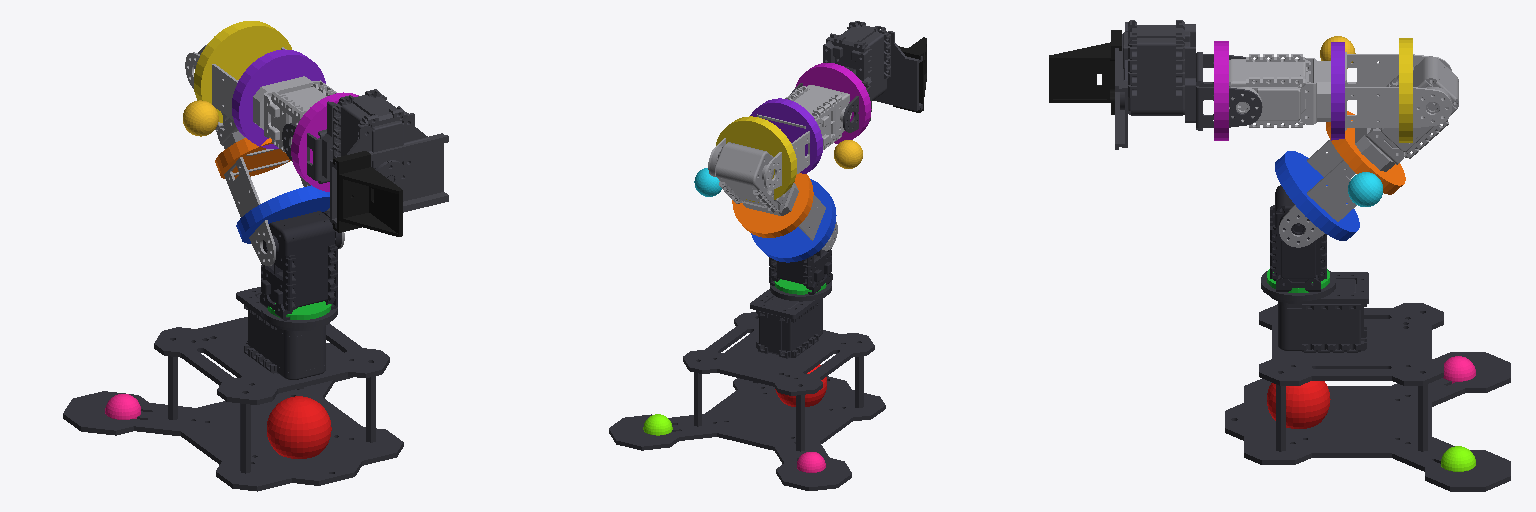
robot.urdf — phantomx_pincher_cad:
<?xml version="1.0" ?>
<!-- 由 scripts/build_cad_urdf.py 从 PhantomX Pincher Mark II STEP/GLB 生成。
     运动学来自 CAD 装配：link frame = 零件局部坐标系，joint origin = 父→子相对变换。
     base_link 包含底座；base_footprint 把 CAD 的 Y-up 转成 Z-up。
-->
<robot name="phantomx_pincher_cad">
  <link name="base_footprint"/>
  <joint name="arm_base_joint" type="fixed">
    <origin xyz="0 0 0" rpy="0 -0 -1.57079633"/>
    <parent link="base_footprint"/>
    <child link="base_link"/>
  </joint>

  <link name="base_link">
    <inertial>
      <mass value="0.3"/>
      <origin xyz="0 0 0"/>
      <inertia ixx="0.0001" ixy="0" ixz="0" iyy="0.0001" iyz="0" izz="0.0001"/>
    </inertial>
    <visual>
      <origin xyz="0 0 0" rpy="0 0 0"/>
      <geometry><mesh filename="parts/PincherBase.stl" scale="1.0 1.0 1.0"/></geometry>
      <material name="grey"><color rgba="0.25 0.25 0.28 1"/></material>
    </visual>
    <collision>
      <origin xyz="0 0 0" rpy="0 0 0"/>
      <geometry><mesh filename="parts/PincherBase.stl" scale="1.0 1.0 1.0"/></geometry>
    </collision>
    <visual>
      <origin xyz="0 0 0" rpy="0 0 0"/>
      <geometry><mesh filename="parts/PincherBase_1.stl" scale="1.0 1.0 1.0"/></geometry>
      <material name="grey"><color rgba="0.25 0.25 0.28 1"/></material>
    </visual>
    <collision>
      <origin xyz="0 0 0" rpy="0 0 0"/>
      <geometry><mesh filename="parts/PincherBase_1.stl" scale="1.0 1.0 1.0"/></geometry>
    </collision>
  </link>

  <joint name="arm_shoulder_pan_joint" type="revolute">
    <origin xyz="0.00007574 0.00007574 0.09437501" rpy="0 0 0"/>
    <axis xyz="0 0 1"/>
    <limit effort="6" lower="-1.74" upper="1.74" velocity="1.571"/>
    <dynamics friction="0.13"/>
    <parent link="base_link"/>
    <child link="arm_shoulder_pan_link"/>
  </joint>
  <link name="arm_shoulder_pan_link">
    <inertial>
      <mass value="0.08"/>
      <origin xyz="0 0 0"/>
      <inertia ixx="0.0001" ixy="0" ixz="0" iyy="0.0001" iyz="0" izz="0.0001"/>
    </inertial>
    <visual>
      <origin xyz="0 0 0" rpy="0 0 0"/>
      <geometry><mesh filename="parts/Component1.stl" scale="1.0 1.0 1.0"/></geometry>
      <material name="grey"><color rgba="0.22 0.22 0.25 1"/></material>
    </visual>
    <collision>
      <origin xyz="0 0 0" rpy="0 0 0"/>
      <geometry><mesh filename="parts/Component1.stl" scale="1.0 1.0 1.0"/></geometry>
    </collision>
  </link>

  <joint name="arm_bicep_joint" type="revolute">
    <origin xyz="-0.00000023 0 0.04149977" rpy="0 -0.78539816 0"/>
    <axis xyz="0 1 -0"/>
    <limit effort="6" lower="-1.98" upper="1.88" velocity="1.571"/>
    <dynamics friction="0.13"/>
    <parent link="arm_shoulder_pan_link"/>
    <child link="arm_bicep_link"/>
  </joint>
  <link name="arm_bicep_link">
    <inertial>
      <mass value="0.1"/>
      <origin xyz="0 0 0"/>
      <inertia ixx="0.0001" ixy="0" ixz="0" iyy="0.0001" iyz="0" izz="0.0001"/>
    </inertial>
    <visual>
      <origin xyz="0 0 0" rpy="0 0 0"/>
      <geometry><mesh filename="parts/LowerArm_v2.stl" scale="1.0 1.0 1.0"/></geometry>
      <material name="grey"><color rgba="0.6 0.6 0.62 1"/></material>
    </visual>
    <collision>
      <origin xyz="0 0 0" rpy="0 0 0"/>
      <geometry><mesh filename="parts/LowerArm_v2.stl" scale="1.0 1.0 1.0"/></geometry>
    </collision>
  </link>

  <joint name="arm_forearm_joint" type="revolute">
    <origin xyz="0.00000023 0 0.10700023" rpy="-3.14159265 0.78539816 -3.14159265"/>
    <axis xyz="-0 1 0"/>
    <limit effort="6" lower="-1.58" upper="0.59" velocity="1.571"/>
    <dynamics friction="0.13"/>
    <parent link="arm_bicep_link"/>
    <child link="arm_forearm_link"/>
  </joint>
  <link name="arm_forearm_link">
    <inertial>
      <mass value="0.08"/>
      <origin xyz="0 0 0"/>
      <inertia ixx="0.0001" ixy="0" ixz="0" iyy="0.0001" iyz="0" izz="0.0001"/>
    </inertial>
    <visual>
      <origin xyz="0 0 0" rpy="0 0 0"/>
      <geometry><mesh filename="parts/UpperArm_v2.stl" scale="1.0 1.0 1.0"/></geometry>
      <material name="grey"><color rgba="0.68 0.68 0.7 1"/></material>
    </visual>
    <collision>
      <origin xyz="0 0 0" rpy="0 0 0"/>
      <geometry><mesh filename="parts/UpperArm_v2.stl" scale="1.0 1.0 1.0"/></geometry>
    </collision>
  </link>

  <joint name="arm_wrist_flex_joint" type="revolute">
    <origin xyz="-0.00025427 -0 0.107" rpy="-0 0 0"/>
    <axis xyz="-0 1 0"/>
    <limit effort="6" lower="-1.79" upper="1.67" velocity="1.571"/>
    <dynamics friction="0.13"/>
    <parent link="arm_forearm_link"/>
    <child link="arm_wrist_flex_link"/>
  </joint>
  <link name="arm_wrist_flex_link">
    <inertial>
      <mass value="0.06"/>
      <origin xyz="0 0 0"/>
      <inertia ixx="0.0001" ixy="0" ixz="0" iyy="0.0001" iyz="0" izz="0.0001"/>
    </inertial>
    <visual>
      <origin xyz="0 0 0" rpy="0 0 0"/>
      <geometry><mesh filename="parts/GripperBody_v4.stl" scale="1.0 1.0 1.0"/></geometry>
      <material name="grey"><color rgba="0.3 0.3 0.33 1"/></material>
    </visual>
    <collision>
      <origin xyz="0 0 0" rpy="0 0 0"/>
      <geometry><mesh filename="parts/GripperBody_v4.stl" scale="1.0 1.0 1.0"/></geometry>
    </collision>
  </link>

  <joint name="gripper_joint" type="prismatic">
    <origin xyz="0.00036977 0.02834429 0.07158491" rpy="-0 0 3.14159265"/>
    <axis xyz="0 -1 -0"/>
    <limit effort="30" lower="0.002" upper="0.032" velocity="0.5"/>
    <parent link="arm_wrist_flex_link"/>
    <child link="gripper_active_link"/>
  </joint>
  <link name="gripper_active_link">
    <inertial>
      <mass value="0.01"/>
      <origin xyz="0 0 0"/>
      <inertia ixx="0.0001" ixy="0" ixz="0" iyy="0.0001" iyz="0" izz="0.0001"/>
    </inertial>
    <visual>
      <origin xyz="0 0 0" rpy="0 0 0"/>
      <geometry><mesh filename="parts/LeftFinger_v2.stl" scale="1.0 1.0 1.0"/></geometry>
      <material name="grey"><color rgba="0.15 0.15 0.15 1"/></material>
    </visual>
    <collision>
      <origin xyz="0 0 0" rpy="0 0 0"/>
      <geometry><mesh filename="parts/LeftFinger_v2.stl" scale="1.0 1.0 1.0"/></geometry>
    </collision>
  </link>

  <joint name="gripper2_joint" type="fixed">
    <origin xyz="0.00036977 -0.02849576 0.07158491" rpy="0 -0 0"/>
    <parent link="arm_wrist_flex_link"/>
    <child link="gripper_active2_link"/>
  </joint>
  <link name="gripper_active2_link">
    <inertial>
      <mass value="0.01"/>
      <origin xyz="0 0 0"/>
      <inertia ixx="0.0001" ixy="0" ixz="0" iyy="0.0001" iyz="0" izz="0.0001"/>
    </inertial>
    <visual>
      <origin xyz="0 0 0" rpy="0 0 0"/>
      <geometry><mesh filename="parts/LeftFinger_v2_1.stl" scale="1.0 1.0 1.0"/></geometry>
      <material name="grey"><color rgba="0.15 0.15 0.15 1"/></material>
    </visual>
    <collision>
      <origin xyz="0 0 0" rpy="0 0 0"/>
      <geometry><mesh filename="parts/LeftFinger_v2_1.stl" scale="1.0 1.0 1.0"/></geometry>
    </collision>
  </link>

  <!-- keypoint marker: kp_base -->
  <link name="kp_base">
    <visual>
      <origin xyz="0 0 0" rpy="0.0 0.0 0.0"/>
      <geometry><sphere radius="0.018"/></geometry>
      <material name="kp_kp_base_color">
        <color rgba="0.90 0.15 0.15 1.00"/>
      </material>
    </visual>
  </link>
  <joint name="kp_base_joint" type="fixed">
    <origin xyz="0.0 0.0 0.02" rpy="0 0 0"/>
    <parent link="base_link"/>
    <child link="kp_base"/>
  </joint>


  <!-- keypoint marker: kp_shoulder_pan -->
  <link name="kp_shoulder_pan">
    <visual>
      <origin xyz="0 0 0" rpy="0.0 0.0 0.0"/>
      <geometry><cylinder radius="0.018" length="0.006"/></geometry>
      <material name="kp_kp_shoulder_pan_color">
        <color rgba="0.15 0.75 0.25 1.00"/>
      </material>
    </visual>
  </link>
  <joint name="kp_shoulder_pan_joint" type="fixed">
    <origin xyz="0.0 0.0 0.0" rpy="0 0 0"/>
    <parent link="arm_shoulder_pan_link"/>
    <child link="kp_shoulder_pan"/>
  </joint>


  <!-- keypoint marker: kp_shoulder_lift -->
  <link name="kp_shoulder_lift">
    <visual>
      <origin xyz="0 0 0" rpy="0.0 0.0 0.0"/>
      <geometry><cylinder radius="0.03" length="0.008"/></geometry>
      <material name="kp_kp_shoulder_lift_color">
        <color rgba="0.15 0.35 0.90 1.00"/>
      </material>
    </visual>
  </link>
  <joint name="kp_shoulder_lift_joint" type="fixed">
    <origin xyz="0.0 0.0 0.015" rpy="0 0 0"/>
    <parent link="arm_bicep_link"/>
    <child link="kp_shoulder_lift"/>
  </joint>


  <!-- keypoint marker: kp_upper_mid -->
  <link name="kp_upper_mid">
    <visual>
      <origin xyz="0 0 0" rpy="0.0 0.0 0.0"/>
      <geometry><cylinder radius="0.028" length="0.008"/></geometry>
      <material name="kp_kp_upper_mid_color">
        <color rgba="1.00 0.50 0.10 1.00"/>
      </material>
    </visual>
  </link>
  <joint name="kp_upper_mid_joint" type="fixed">
    <origin xyz="0.0 0.0 0.0535" rpy="0 0 0"/>
    <parent link="arm_bicep_link"/>
    <child link="kp_upper_mid"/>
  </joint>


  <!-- keypoint marker: kp_elbow -->
  <link name="kp_elbow">
    <visual>
      <origin xyz="0 0 0" rpy="0.0 0.0 0.0"/>
      <geometry><cylinder radius="0.03" length="0.008"/></geometry>
      <material name="kp_kp_elbow_color">
        <color rgba="0.90 0.80 0.15 1.00"/>
      </material>
    </visual>
  </link>
  <joint name="kp_elbow_joint" type="fixed">
    <origin xyz="0.0 0.0 0.015" rpy="0 0 0"/>
    <parent link="arm_forearm_link"/>
    <child link="kp_elbow"/>
  </joint>


  <!-- keypoint marker: kp_forearm_mid -->
  <link name="kp_forearm_mid">
    <visual>
      <origin xyz="0 0 0" rpy="0.0 0.0 0.0"/>
      <geometry><cylinder radius="0.028" length="0.008"/></geometry>
      <material name="kp_kp_forearm_mid_color">
        <color rgba="0.55 0.20 0.85 1.00"/>
      </material>
    </visual>
  </link>
  <joint name="kp_forearm_mid_joint" type="fixed">
    <origin xyz="0.0 0.0 0.0535" rpy="0 0 0"/>
    <parent link="arm_forearm_link"/>
    <child link="kp_forearm_mid"/>
  </joint>


  <!-- keypoint marker: kp_wrist -->
  <link name="kp_wrist">
    <visual>
      <origin xyz="0 0 0" rpy="0.0 0.0 0.0"/>
      <geometry><cylinder radius="0.028" length="0.008"/></geometry>
      <material name="kp_kp_wrist_color">
        <color rgba="0.80 0.15 0.80 1.00"/>
      </material>
    </visual>
  </link>
  <joint name="kp_wrist_joint" type="fixed">
    <origin xyz="0.0 0.0 0.012" rpy="0 0 0"/>
    <parent link="arm_wrist_flex_link"/>
    <child link="kp_wrist"/>
  </joint>


  <!-- keypoint marker: kp_base_left -->
  <link name="kp_base_left">
    <visual>
      <origin xyz="0 0 0" rpy="0.0 0.0 0.0"/>
      <geometry><sphere radius="0.01"/></geometry>
      <material name="kp_kp_base_left_color">
        <color rgba="0.55 1.00 0.10 1.00"/>
      </material>
    </visual>
  </link>
  <joint name="kp_base_left_joint" type="fixed">
    <origin xyz="-0.09 0.06 0.008" rpy="0 0 0"/>
    <parent link="base_link"/>
    <child link="kp_base_left"/>
  </joint>


  <!-- keypoint marker: kp_base_right -->
  <link name="kp_base_right">
    <visual>
      <origin xyz="0 0 0" rpy="0.0 0.0 0.0"/>
      <geometry><sphere radius="0.01"/></geometry>
      <material name="kp_kp_base_right_color">
        <color rgba="1.00 0.20 0.60 1.00"/>
      </material>
    </visual>
  </link>
  <joint name="kp_base_right_joint" type="fixed">
    <origin xyz="-0.09 -0.06 0.008" rpy="0 0 0"/>
    <parent link="base_link"/>
    <child link="kp_base_right"/>
  </joint>


  <!-- keypoint marker: kp_lug_left -->
  <link name="kp_lug_left">
    <visual>
      <origin xyz="0 0 0" rpy="0.0 0.0 0.0"/>
      <geometry><sphere radius="0.01"/></geometry>
      <material name="kp_kp_lug_left_color">
        <color rgba="0.20 0.85 0.95 1.00"/>
      </material>
    </visual>
  </link>
  <joint name="kp_lug_left_joint" type="fixed">
    <origin xyz="0.0 0.05 0.0535" rpy="0 0 0"/>
    <parent link="arm_bicep_link"/>
    <child link="kp_lug_left"/>
  </joint>


  <!-- keypoint marker: kp_lug_right -->
  <link name="kp_lug_right">
    <visual>
      <origin xyz="0 0 0" rpy="0.0 0.0 0.0"/>
      <geometry><sphere radius="0.01"/></geometry>
      <material name="kp_kp_lug_right_color">
        <color rgba="0.95 0.75 0.20 1.00"/>
      </material>
    </visual>
  </link>
  <joint name="kp_lug_right_joint" type="fixed">
    <origin xyz="0.0 -0.05 0.0535" rpy="0 0 0"/>
    <parent link="arm_forearm_link"/>
    <child link="kp_lug_right"/>
  </joint>

</robot>

--- Render facts (derived) ---
The picture shows the robot from 3 angles, left to right: view 1: azimuth 30°, elevation 25°; view 2: azimuth 150°, elevation 25°; view 3: azimuth 270°, elevation 25°; orthographic projection.
Model phantomx_pincher_cad with 19 links and 18 joints (4 revolute, 1 prismatic, 13 fixed), rooted at base_footprint, posed all joints at 0 but 1 set to mid-range because 0 is outside their limits (gripper_joint = 0.017).
Links seen in each view (by area): view 1: base_link, arm_wrist_flex_link, arm_shoulder_pan_link, gripper_active2_link, arm_forearm_link, kp_elbow, kp_forearm_mid, kp_base, arm_bicep_link, kp_shoulder_lift, kp_wrist, kp_upper_mid (+3 smaller); view 2: base_link, arm_wrist_flex_link, arm_bicep_link, arm_forearm_link, kp_elbow, kp_shoulder_lift, kp_upper_mid, kp_wrist, kp_forearm_mid, arm_shoulder_pan_link, gripper_active2_link, kp_lug_right (+1 smaller); view 3: base_link, arm_forearm_link, arm_wrist_flex_link, arm_bicep_link, gripper_active2_link, arm_shoulder_pan_link, kp_shoulder_lift, kp_base, kp_upper_mid, kp_wrist, kp_elbow, kp_forearm_mid (+3 smaller).
Boxes of the visible links, x1=… form: base_link: x1=63, y1=287, x2=403, y2=491; arm_wrist_flex_link: x1=282, y1=89, x2=448, y2=228; arm_shoulder_pan_link: x1=260, y1=211, x2=341, y2=320; gripper_active2_link: x1=333, y1=151, x2=402, y2=236; arm_forearm_link: x1=185, y1=47, x2=336, y2=152; kp_elbow: x1=194, y1=21, x2=291, y2=122; kp_forearm_mid: x1=232, y1=49, x2=325, y2=148; kp_base: x1=267, y1=396, x2=331, y2=458; arm_bicep_link: x1=194, y1=45, x2=344, y2=265; kp_shoulder_lift: x1=236, y1=185, x2=329, y2=243; kp_wrist: x1=291, y1=92, x2=358, y2=191; kp_upper_mid: x1=215, y1=138, x2=290, y2=178; base_link: x1=609, y1=281, x2=885, y2=490; arm_wrist_flex_link: x1=790, y1=21, x2=922, y2=132; arm_bicep_link: x1=710, y1=142, x2=837, y2=250; arm_forearm_link: x1=708, y1=85, x2=851, y2=190; kp_elbow: x1=716, y1=116, x2=796, y2=202; kp_shoulder_lift: x1=751, y1=179, x2=836, y2=262; kp_upper_mid: x1=732, y1=173, x2=813, y2=237; kp_wrist: x1=795, y1=63, x2=871, y2=143; kp_forearm_mid: x1=750, y1=98, x2=822, y2=173; arm_shoulder_pan_link: x1=769, y1=248, x2=832, y2=294; gripper_active2_link: x1=893, y1=37, x2=926, y2=112; kp_lug_right: x1=834, y1=140, x2=862, y2=168; base_link: x1=1225, y1=270, x2=1510, y2=491; arm_forearm_link: x1=1229, y1=52, x2=1451, y2=130; arm_wrist_flex_link: x1=1115, y1=20, x2=1261, y2=149; arm_bicep_link: x1=1279, y1=56, x2=1458, y2=247; gripper_active2_link: x1=1049, y1=30, x2=1121, y2=114; arm_shoulder_pan_link: x1=1270, y1=185, x2=1326, y2=291; kp_shoulder_lift: x1=1275, y1=151, x2=1359, y2=240; kp_base: x1=1267, y1=381, x2=1330, y2=428; kp_upper_mid: x1=1326, y1=111, x2=1405, y2=194; kp_wrist: x1=1214, y1=41, x2=1228, y2=140; kp_elbow: x1=1399, y1=38, x2=1412, y2=142; kp_forearm_mid: x1=1331, y1=42, x2=1344, y2=140.
Bounding box of the posed robot: 0.1792 × 0.26 × 0.2523 m (x, y, z).
7 mesh visuals loaded from 8 distinct referenced files (7 binary STL); not drawn: 1 (reference not matched to a file when rendering).
